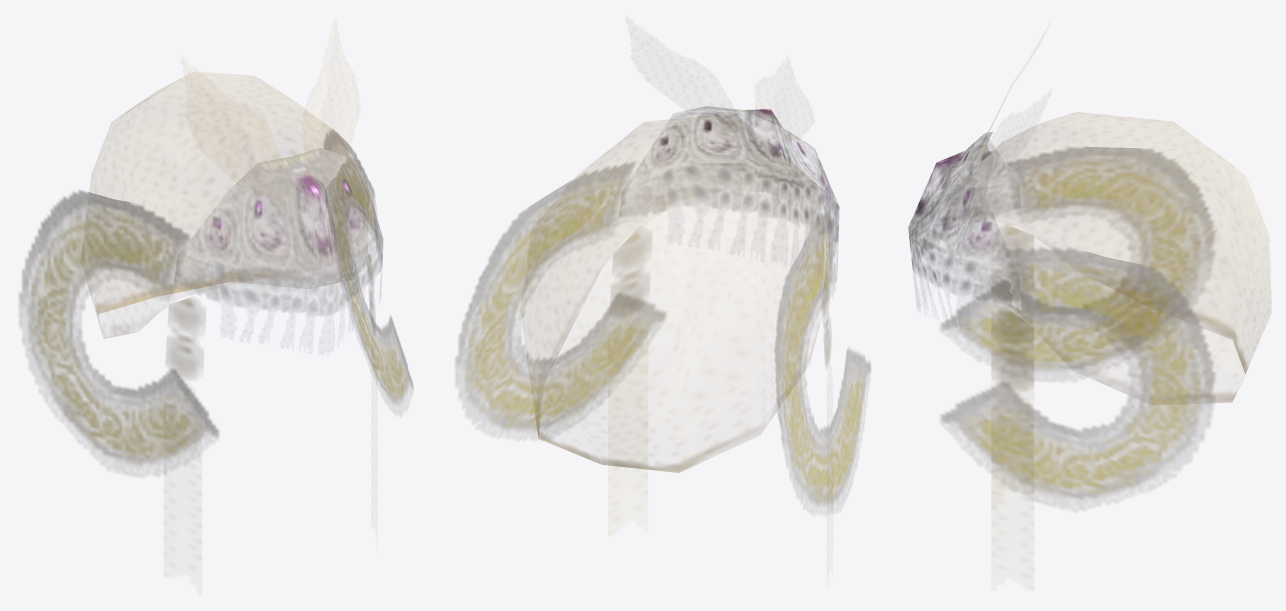
Rendered from light_04_ha.glb.
3 renders of one model, left to right at view 1: azimuth 30°, elevation 25°; view 2: azimuth 150°, elevation 25°; view 3: azimuth 270°, elevation 25°, orthographic. The views are drawn at different scales.
Visible parts, largest first — view 1: Light_04_ha; view 2: Light_04_ha; view 3: Light_04_ha.
Part boxes in pixels (x1,y1,x2,y2): Light_04_ha: [19, 72, 413, 474]; Light_04_ha: [455, 106, 870, 513]; Light_04_ha: [908, 113, 1270, 507].
Bounding box in the file's own units: 0.2092 × 0.3101 × 0.2048.
Materials: 1 (1 with a texture image).
